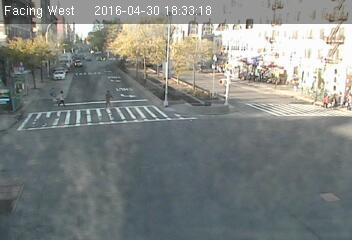neg: (173, 71, 208, 118), (237, 164, 271, 209), (59, 172, 89, 212), (109, 139, 138, 178), (244, 49, 272, 87), (320, 186, 344, 218), (9, 81, 32, 112), (117, 30, 140, 61), (320, 34, 343, 64), (93, 33, 108, 53), (242, 15, 257, 35), (293, 32, 305, 49)
pos: (99, 88, 114, 108), (55, 87, 70, 107), (316, 92, 329, 110), (329, 93, 340, 106)
